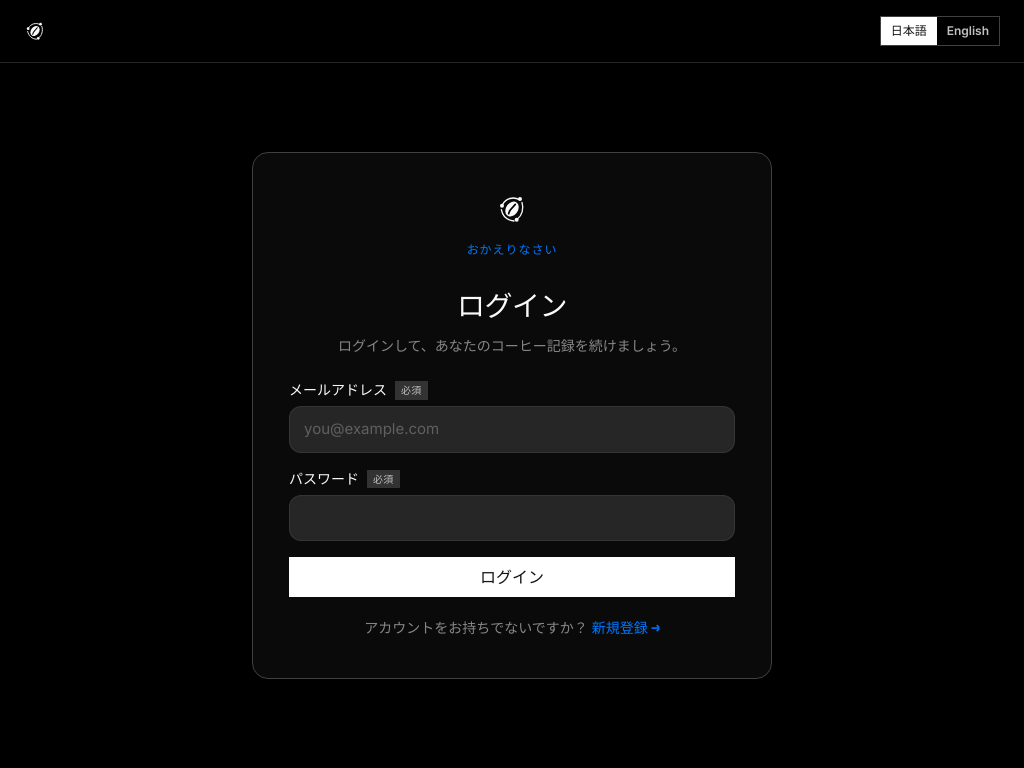
LoginPage（未ログイン） › email/passwordが空のまま送信すると、APIを呼ばずクライアント側エラーを表示する
This screenshot has width=1024, height=768.
Click the button "ログイン": (512, 577) [289, 557, 735, 597]
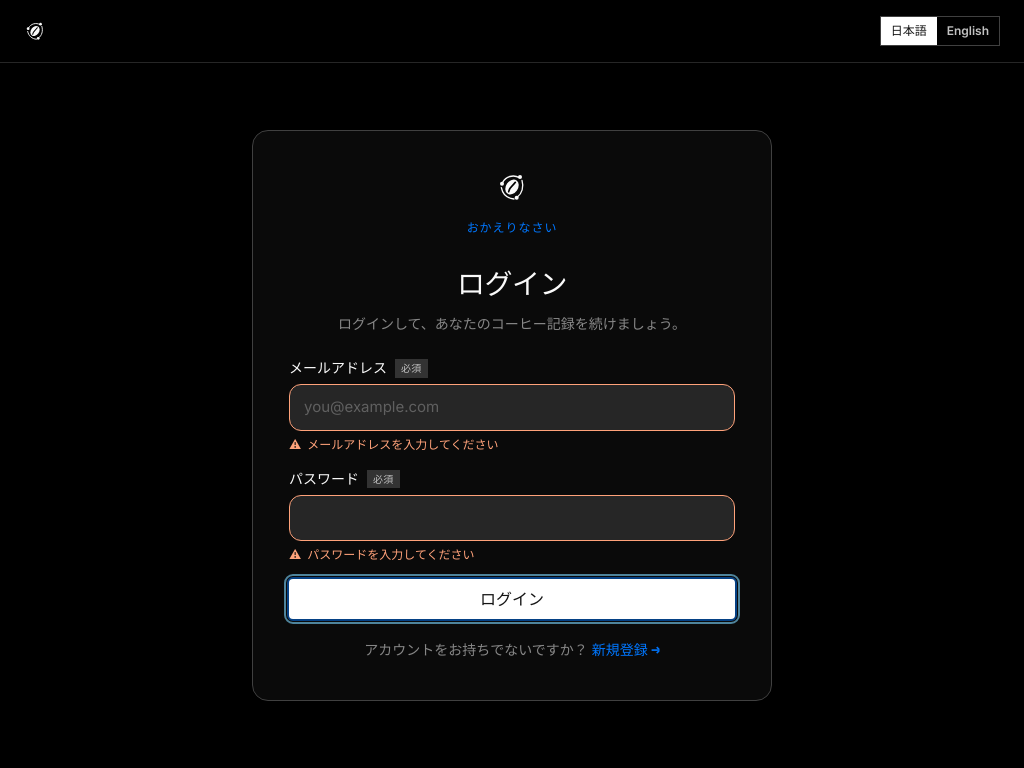
Now the text "メールアドレスを入力してください" is shown, box [307, 437, 499, 453]
